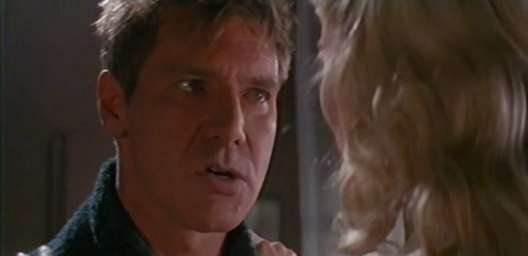cu: (1, 1, 528, 256)
face: (150, 33, 280, 233)
ots: (296, 1, 528, 256)
person: (15, 1, 302, 256)
